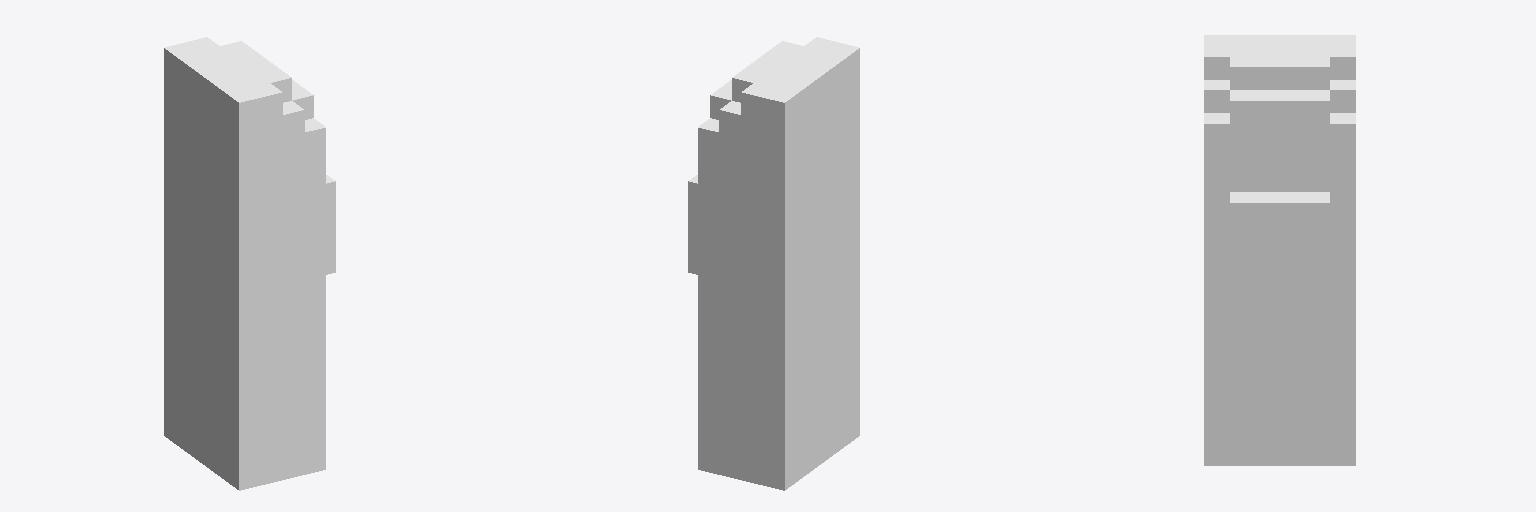
Rendered from CoopSHT-3.obj.
3 views of the same model, side by side, from view 1: azimuth 30°, elevation 25°; view 2: azimuth 150°, elevation 25°; view 3: azimuth 270°, elevation 25° (orthographic).
Visible parts, largest first — view 1: object 1; view 2: object 1; view 3: object 1.
Part boxes in pixels (x1,y1,x2,y2): object 1: (164, 37, 335, 490); object 1: (688, 37, 859, 490); object 1: (1204, 35, 1355, 465).
Bounding box in the file's own units: 0.5 × 1.7 × 0.6.